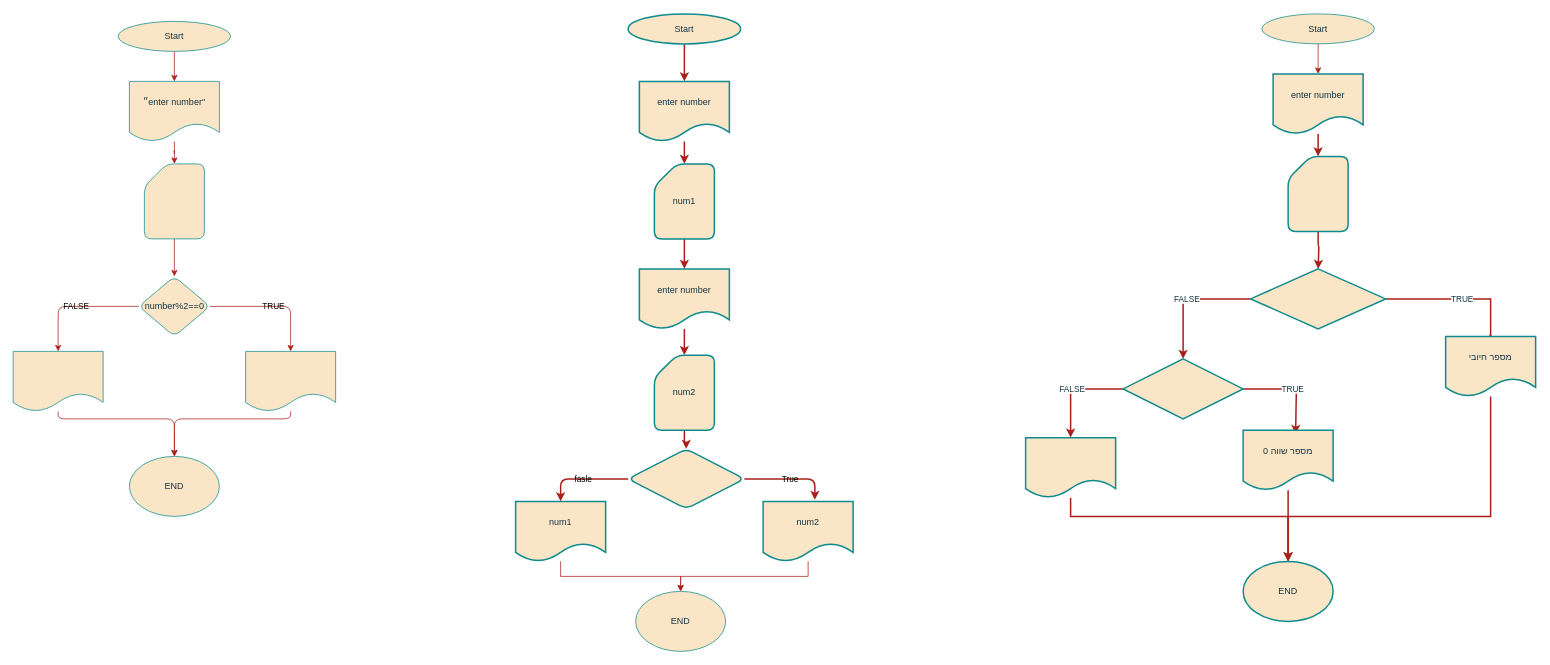
Image size: 1550x665. Some labels were removed from this diagram. Each missing label, with the box of its shape:
"number is even": (245, 351, 336, 411)
"number is odd": (12, 351, 103, 411)
num: (1287, 155, 1348, 232)
num1>=num2: (627, 448, 745, 509)
num=0: (1122, 358, 1244, 419)
num>0: (1250, 268, 1386, 329)
number: (144, 163, 204, 239)
מספר שלילי: (1024, 436, 1116, 498)
